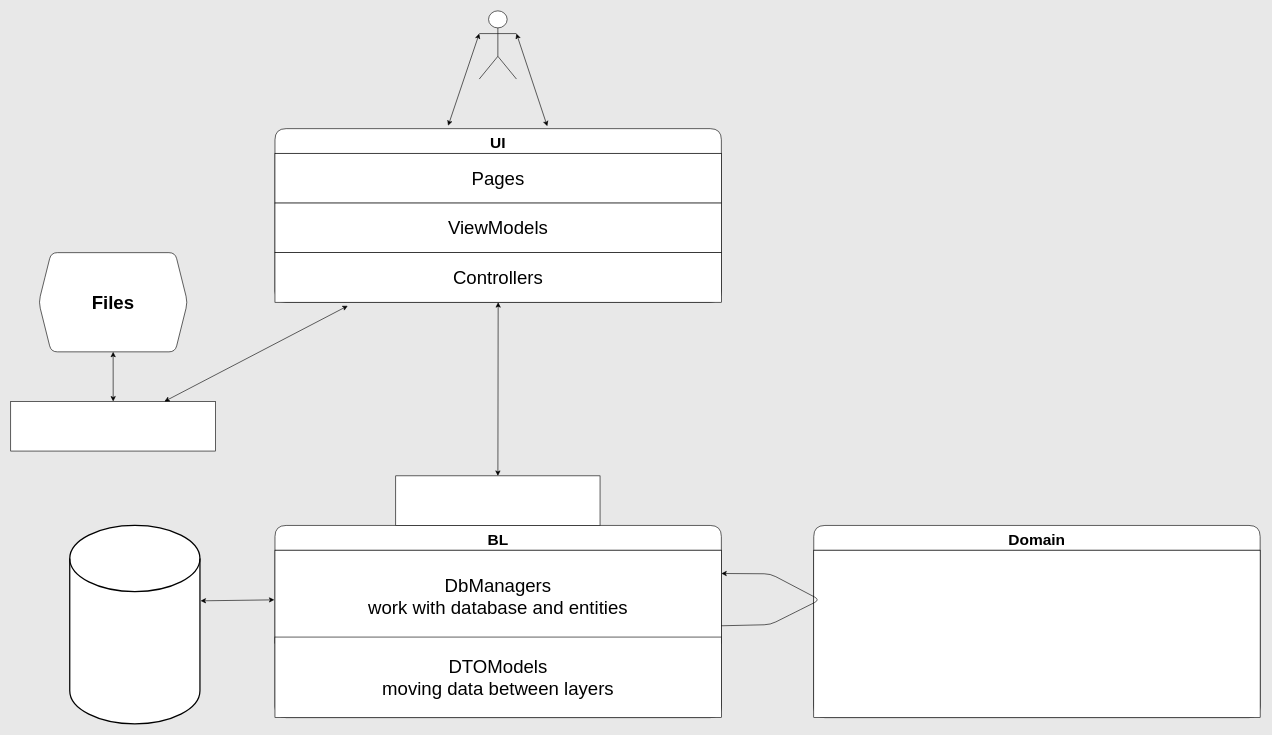
The diagram is 1272 pixels wide and 735 high, and some of its shapes have lost their labels. The shapes that lost their labels are listed below. From the top down, each one's centre as x and y in pixels, then its label:
At (497,44): "User".
At (113,426): "FIleManager".
At (497,500): "OperationManager".
At (134,624): "DataBase".
At (1036,634): "DbModels classes for Entity Framework".
